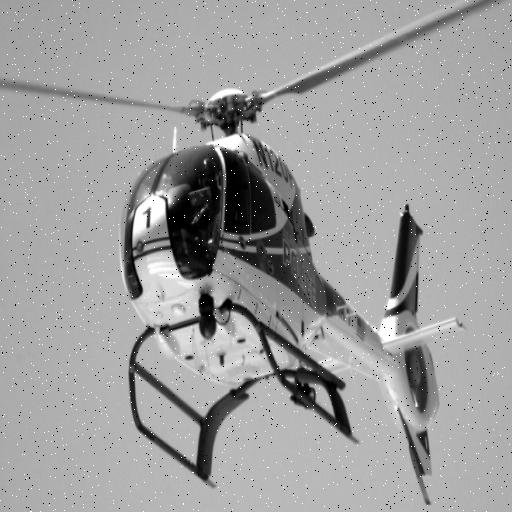helicopter: (1, 1, 512, 502)
